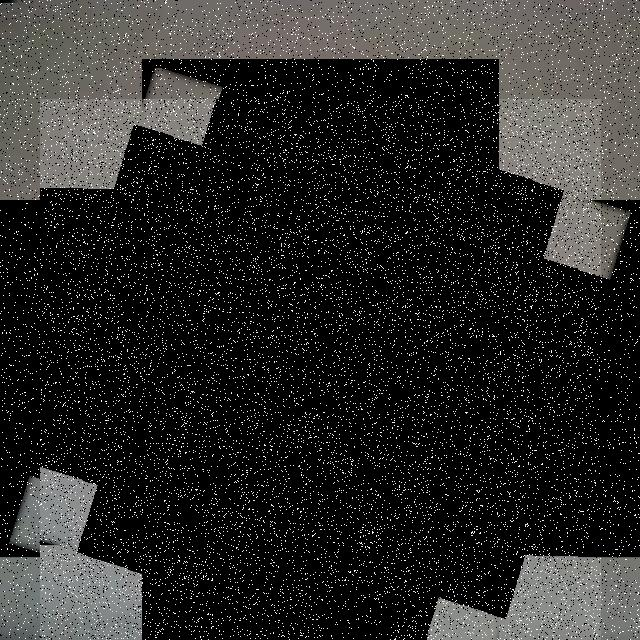dua puluh ribu rupiah: (40, 99, 601, 640)
